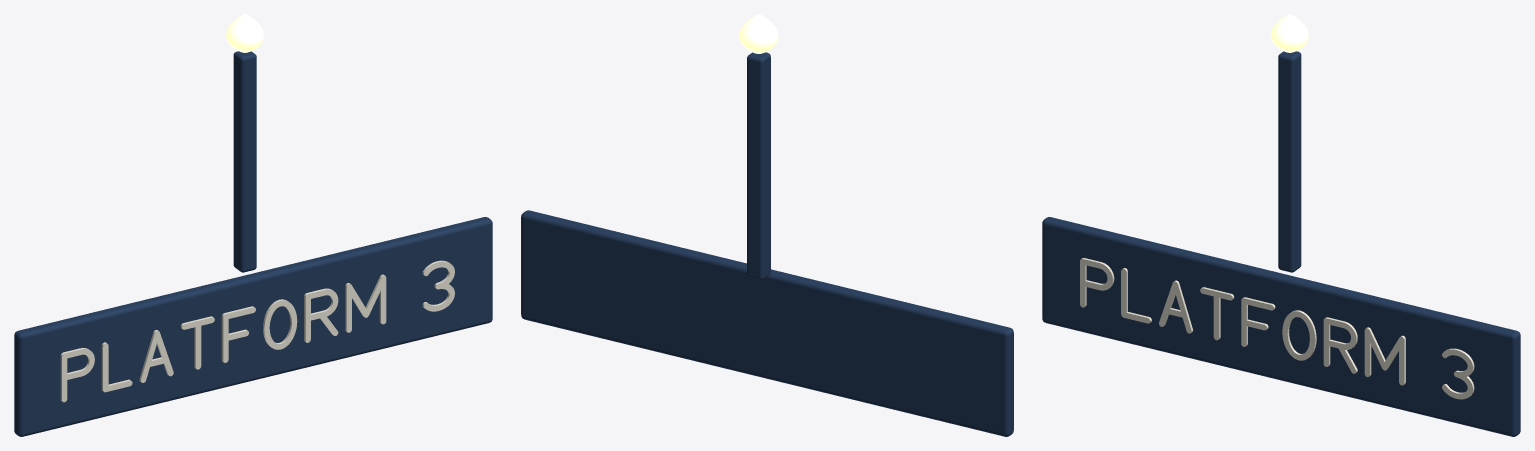
The model's file is sign.gltf.
The picture shows the model from 3 angles, left to right: view 1: azimuth 30°, elevation 25°; view 2: azimuth 150°, elevation 25°; view 3: azimuth 330°, elevation 25°; orthographic projection. The views are drawn at different scales.
Parts seen in each view (by area): view 1: sign, lettering, post, globe; view 2: sign, post, globe; view 3: sign, lettering, post, globe.
Part boxes in pixels (left/top/right/bottom): sign: left=14, top=217, right=492, bottom=436; lettering: left=60, top=260, right=454, bottom=402; post: left=233, top=51, right=256, bottom=272; globe: left=226, top=14, right=264, bottom=52; sign: left=521, top=210, right=1013, bottom=436; post: left=747, top=52, right=770, bottom=280; globe: left=739, top=14, right=778, bottom=53; sign: left=1042, top=217, right=1520, bottom=436; lettering: left=1080, top=258, right=1474, bottom=399; post: left=1278, top=51, right=1301, bottom=272; globe: left=1270, top=14, right=1308, bottom=52.
Size of the model in its own units: 1.15 by 0.83 by 0.096.
